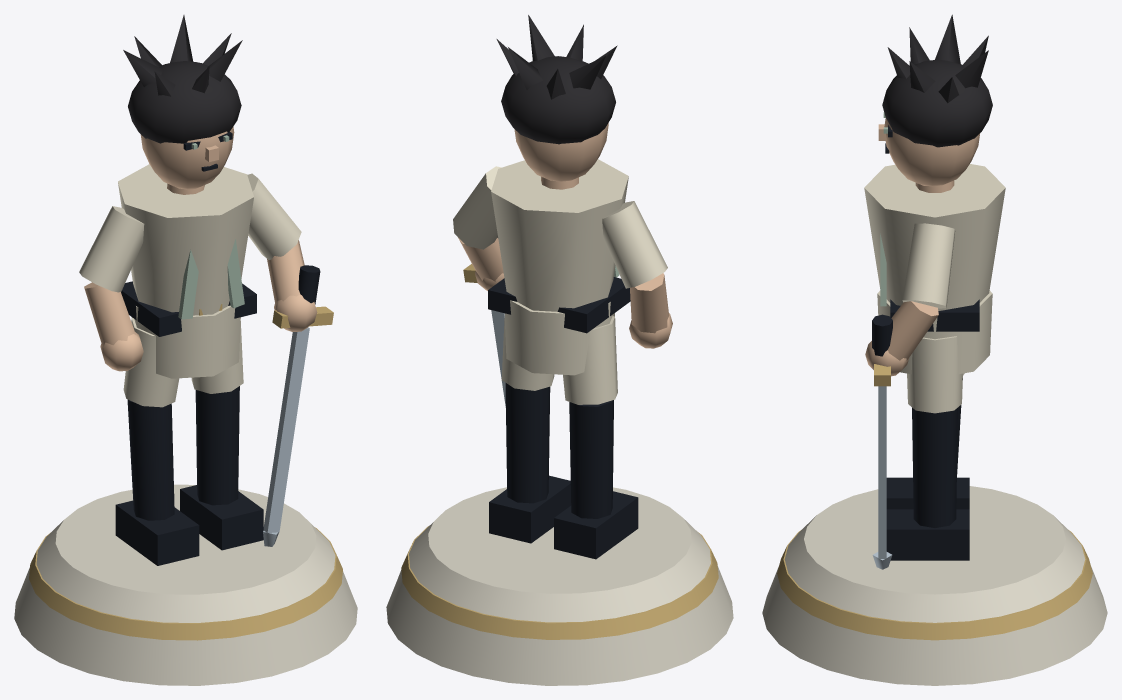
File: yami.glb
The picture shows the model from 3 angles, left to right: view 1: azimuth 30°, elevation 25°; view 2: azimuth 150°, elevation 25°; view 3: azimuth 270°, elevation 25°; orthographic projection.
Visible parts, largest first — view 1: Placeholder Yami Sukehiro; view 2: Placeholder Yami Sukehiro; view 3: Placeholder Yami Sukehiro.
Boxes of the visible parts, box(x1,y1,x2,y2) form: Placeholder Yami Sukehiro: box(14, 15, 357, 685); Placeholder Yami Sukehiro: box(386, 15, 733, 685); Placeholder Yami Sukehiro: box(762, 14, 1107, 685).
Bounding box in the file's own units: 0.54 × 0.9925 × 0.54.
